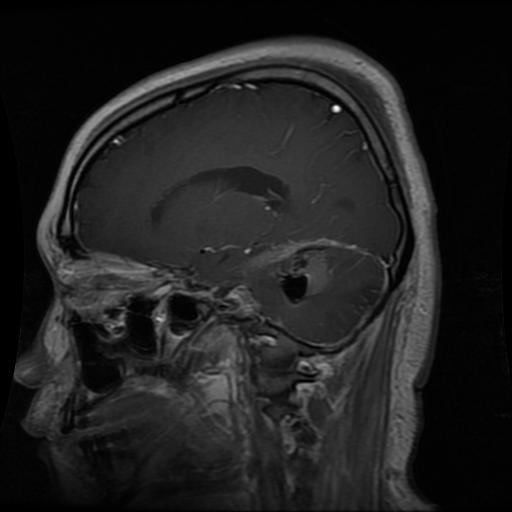Gliomia_tumour: (273, 242, 332, 304)
